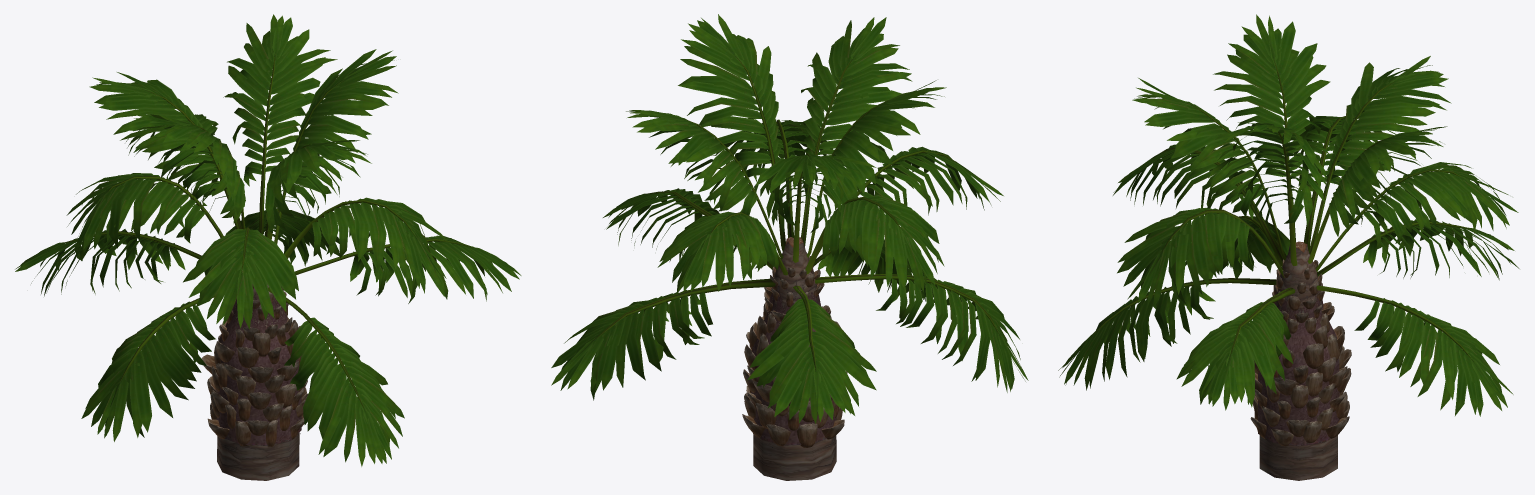
3 renders of one model, left to right at view 1: azimuth 30°, elevation 25°; view 2: azimuth 150°, elevation 25°; view 3: azimuth 270°, elevation 25°, orthographic.
Parts seen in each view (by area): view 1: SM_Palm_04_LOD0; view 2: SM_Palm_04_LOD0; view 3: SM_Palm_04_LOD0.
Boxes of the visible parts, box(x1,y1,x2,y2) form: SM_Palm_04_LOD0: box(15, 14, 521, 480); SM_Palm_04_LOD0: box(551, 14, 1028, 480); SM_Palm_04_LOD0: box(1058, 14, 1519, 480).
Size of the model in its own units: 8.18 by 7.43 by 7.93.
Materials: 2 (2 with a texture image).
